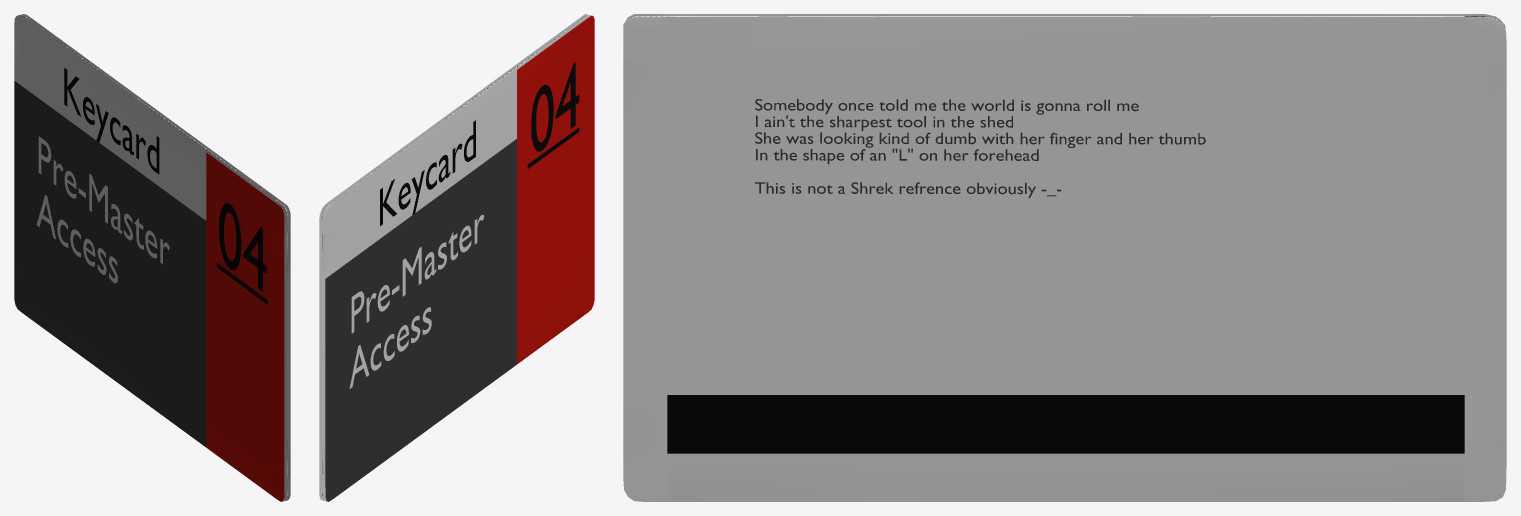
The model's file is Level4.fbx.
3 views of the same model, side by side, from view 1: azimuth 30°, elevation 25°; view 2: azimuth 150°, elevation 25°; view 3: azimuth 270°, elevation 25° (orthographic). The views are drawn at different scales.
Visible parts, largest first — view 1: Cube, Text.003, Text.002, Text; view 2: Cube, Text.003, Text, Text.002; view 3: Cube, Text.005.
Part boxes in pixels (x1=…): Cube: x1=14, y1=14, x2=290, y2=501; Text.003: x1=36, y1=136, x2=169, y2=283; Text.002: x1=64, y1=68, x2=159, y2=174; Text: x1=219, y1=203, x2=266, y2=291; Cube: x1=319, y1=14, x2=594, y2=501; Text.003: x1=349, y1=215, x2=484, y2=388; Text: x1=531, y1=62, x2=579, y2=151; Text.002: x1=380, y1=120, x2=475, y2=225; Cube: x1=623, y1=14, x2=1506, y2=501; Text.005: x1=755, y1=99, x2=1205, y2=197.
Bounding box in the file's own units: 9.7 × 268 × 445.
